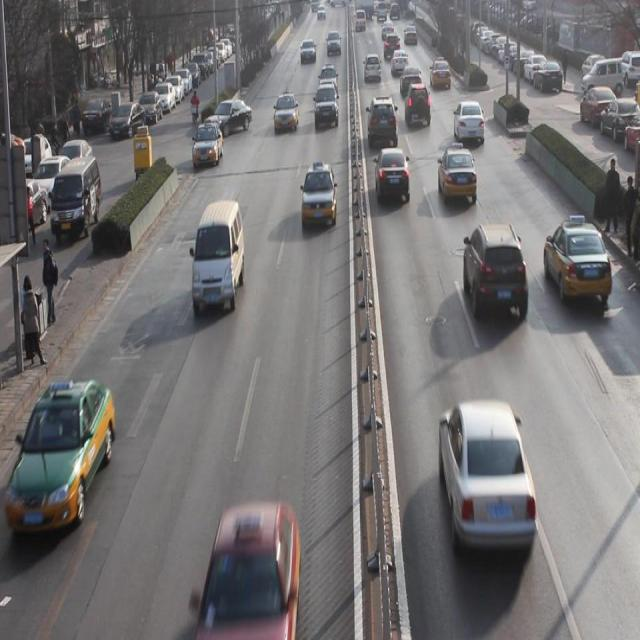car: (439, 400, 538, 556), (13, 387, 115, 528), (464, 219, 528, 321), (544, 218, 612, 308), (301, 162, 337, 230), (438, 146, 477, 205), (375, 146, 410, 205), (368, 96, 399, 148), (191, 121, 224, 168), (208, 100, 252, 135), (454, 100, 485, 145), (272, 92, 300, 136), (406, 83, 431, 130), (314, 88, 339, 131), (430, 56, 451, 91), (363, 50, 382, 86), (319, 65, 338, 96)
truck: (192, 201, 245, 317)
